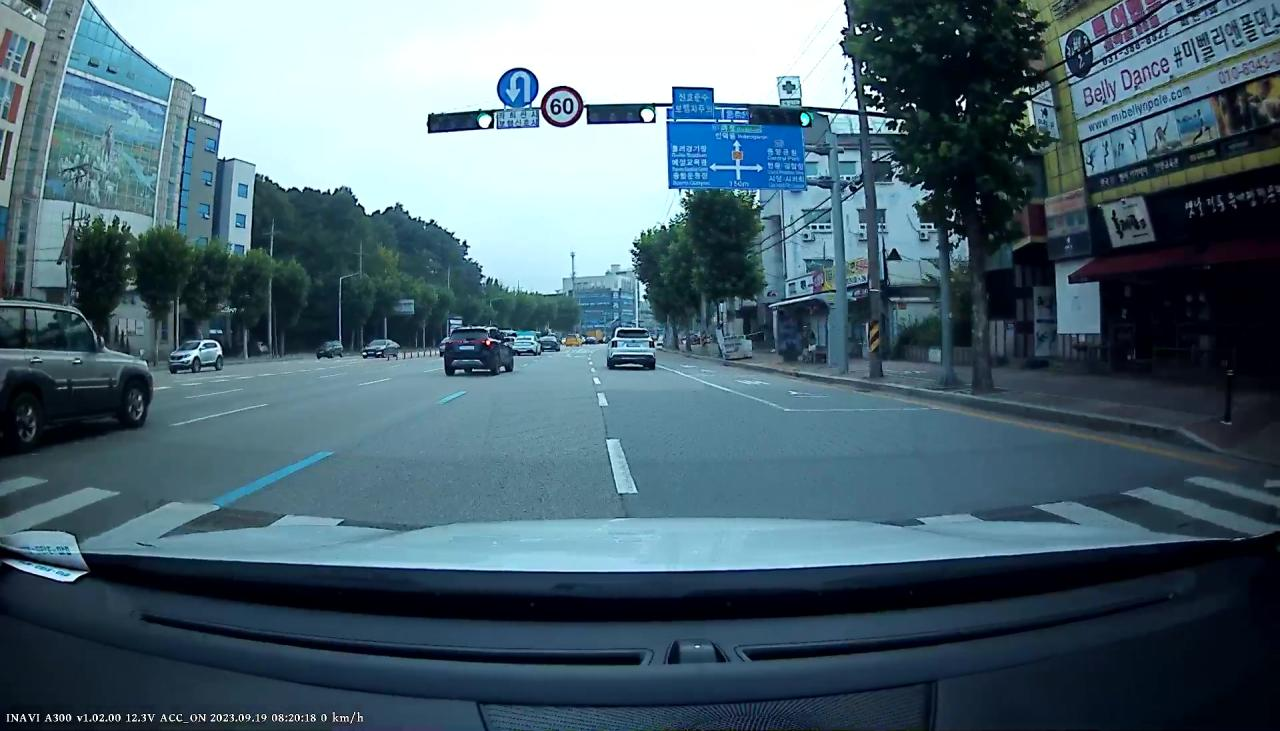Green Light: (798, 107, 812, 131), (639, 104, 655, 123), (477, 112, 491, 130)
